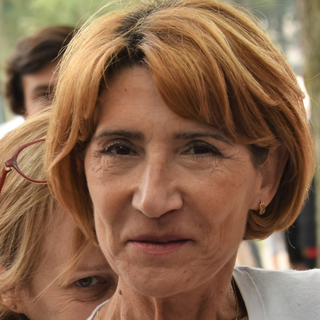eye: (171, 136, 224, 166), (96, 136, 146, 166), (65, 268, 108, 294)
